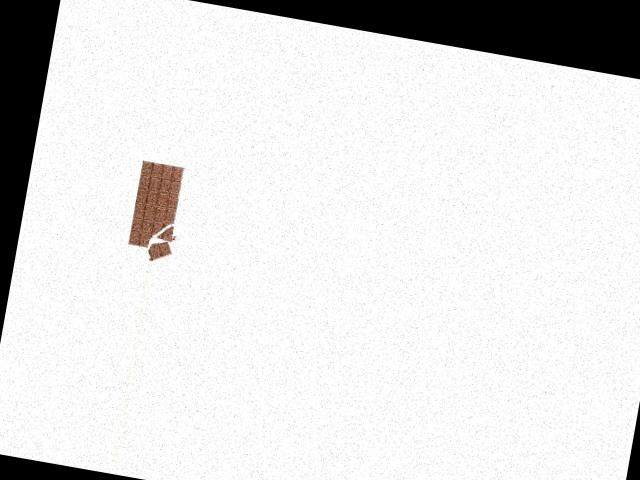chocolate: (119, 157, 197, 266)
